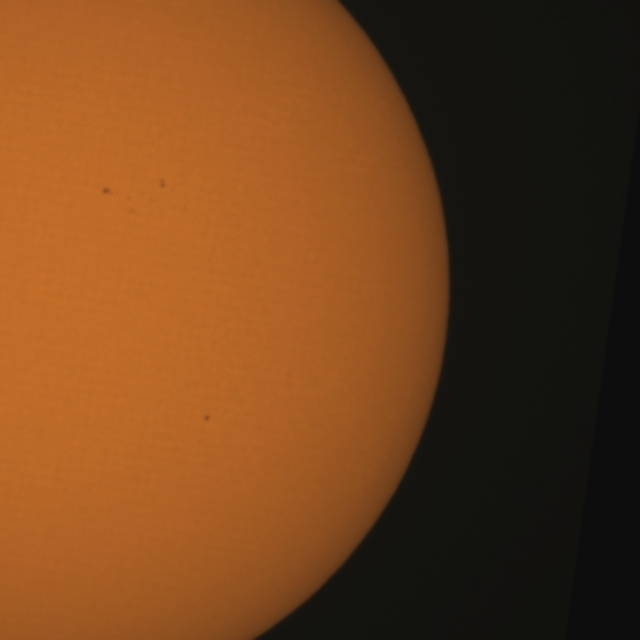sunspot: (100, 184, 137, 214), (124, 194, 137, 215), (100, 186, 114, 197), (157, 176, 168, 190), (202, 413, 212, 424)
